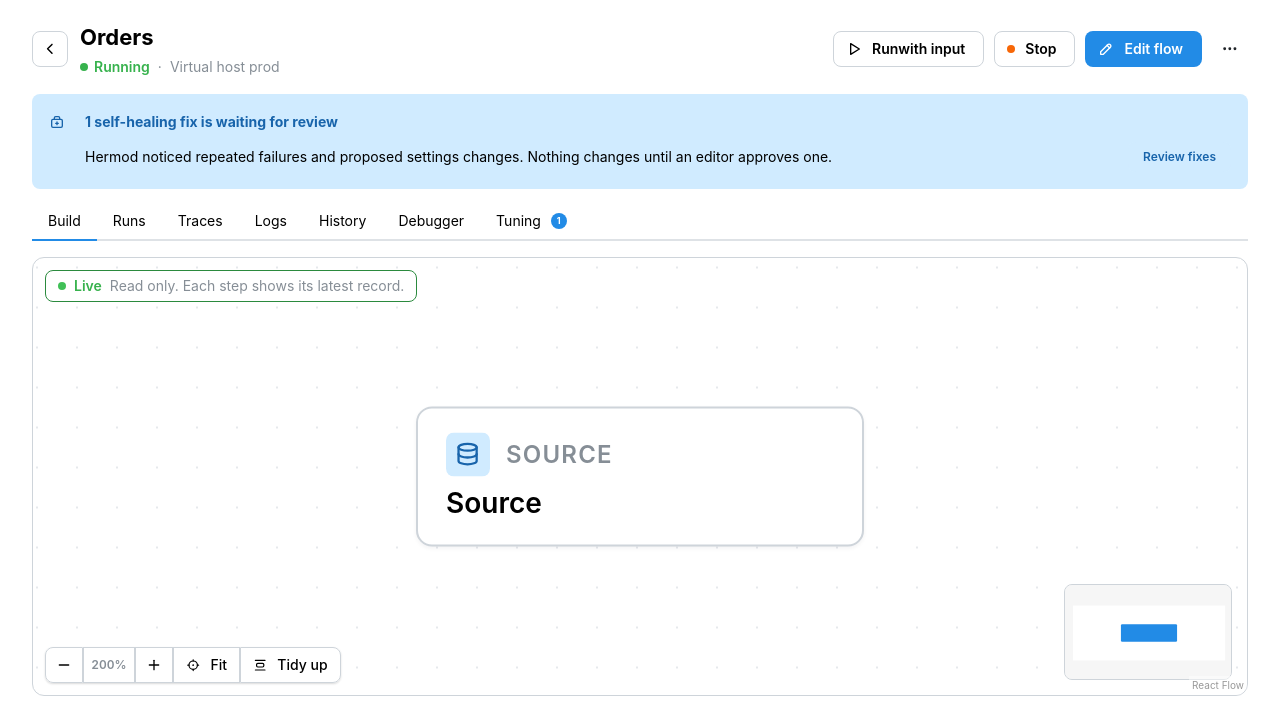
Test case: a flow, opened read only › keeps the header to Run with input, Stop, Edit flow and ⋯
The image size is (1280, 720).
Check: the heading "Orders" is shown, box [80, 24, 154, 50]
Check: the button "Run with input" is shown, box [833, 31, 984, 67]
Click the button named "More".
click(1230, 49)  # box [1212, 31, 1248, 67]
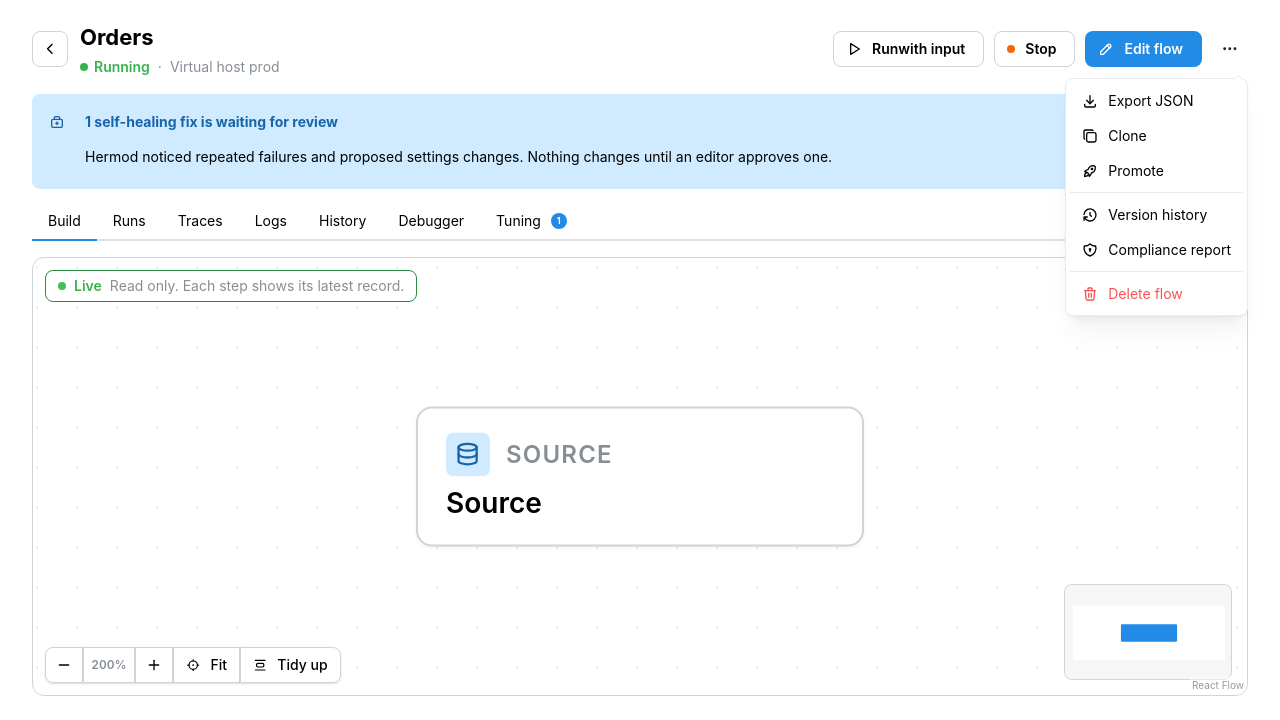
Check: the menu item "Export JSON" is shown, box [1070, 83, 1243, 118]
Check: the menu item "Clone" is shown, box [1070, 118, 1243, 153]
Check: the menu item "Promote" is shown, box [1070, 153, 1243, 188]
